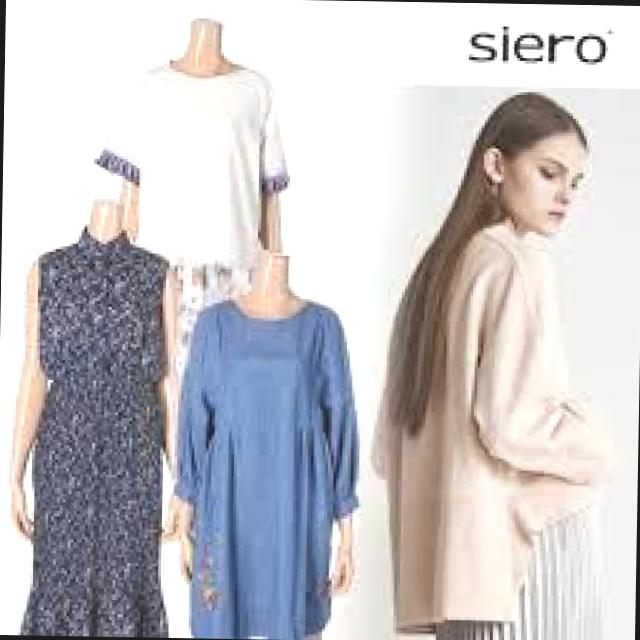Tshirt: (86, 55, 302, 338)
dress: (2, 222, 184, 638), (170, 290, 367, 640)
sweater: (368, 223, 626, 628)
